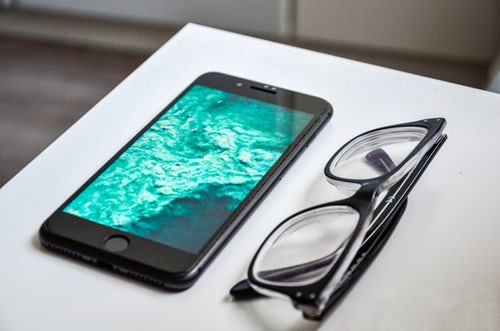phone: (40, 69, 334, 295)
